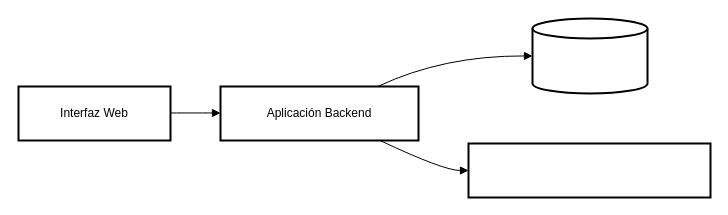
This 728x215 diagram has some shape labels left out. The shapes that lost their labels are listed below. From the top down, each one's box as (x1, y1, x2, y2) in pixels, then its label:
(531, 17, 648, 94): Base de Datos
(467, 142, 711, 198): Servicio de Autenticación
